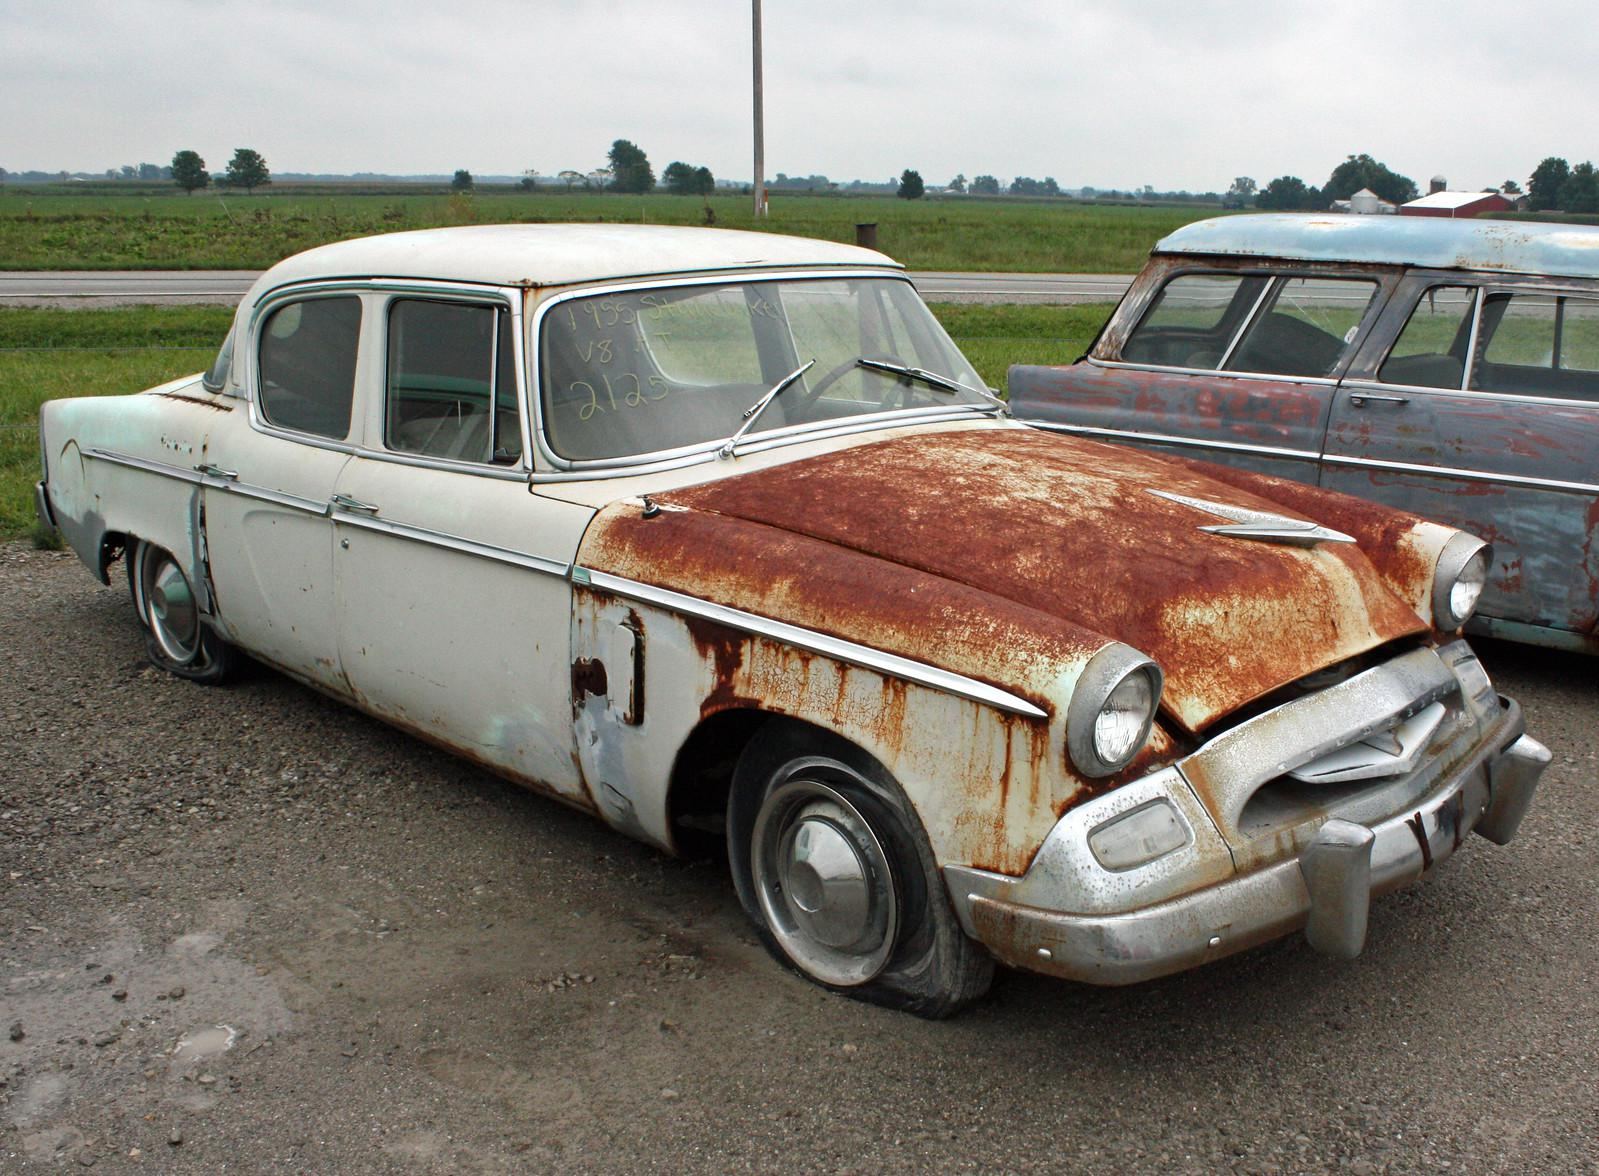fender-dent: (588, 513, 1110, 803)
front-bumper-dent: (1186, 703, 1527, 939)
